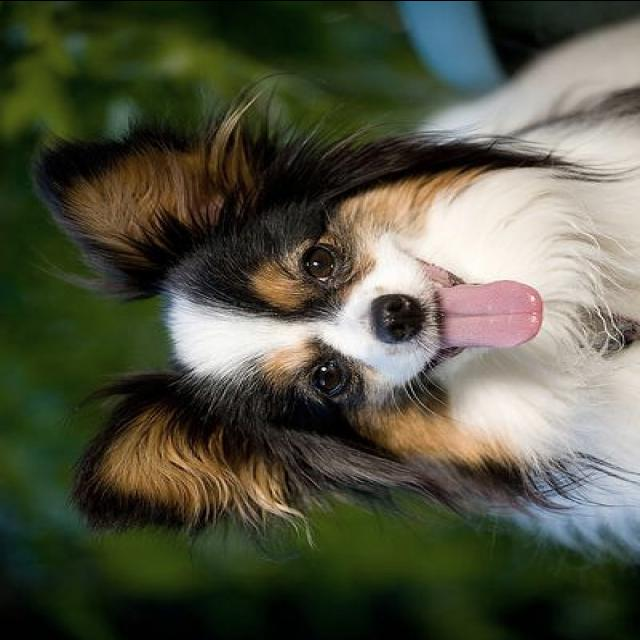papillon: (36, 19, 638, 547)
